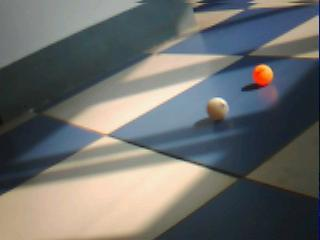oball: (253, 64, 273, 85)
